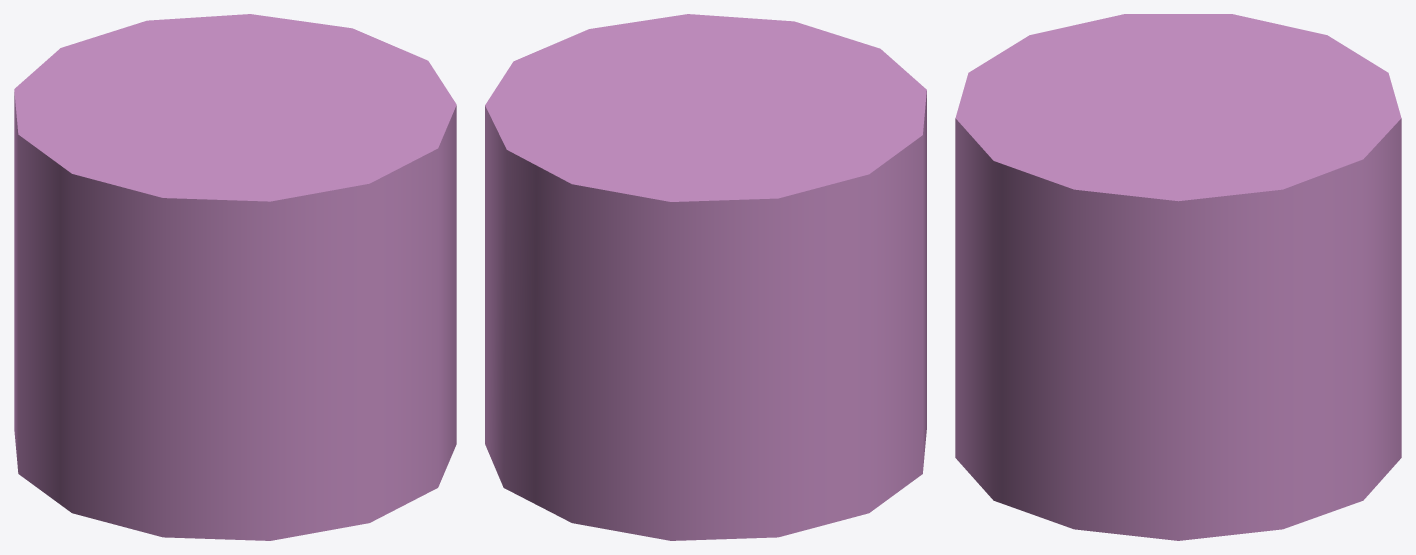
File: liquidillo_mezcla.FBX
The picture shows the model from 3 angles, left to right: view 1: azimuth 30°, elevation 25°; view 2: azimuth 150°, elevation 25°; view 3: azimuth 270°, elevation 25°; orthographic projection.
Parts seen in each view (by area): view 1: liquidillo1_low; view 2: liquidillo1_low; view 3: liquidillo1_low.
Boxes of the visible parts, bbox=[...] form: liquidillo1_low: bbox=[14, 14, 456, 540]; liquidillo1_low: bbox=[485, 14, 926, 540]; liquidillo1_low: bbox=[955, 14, 1401, 540].
Size of the model in its own units: 5.6 by 4.74 by 5.64.
